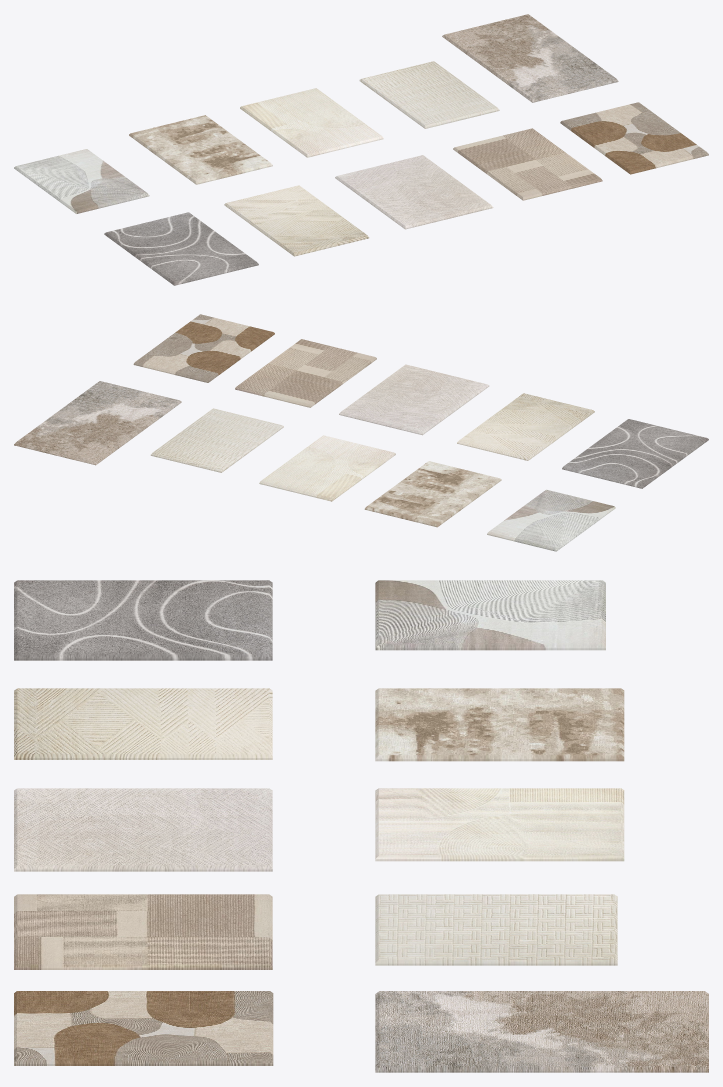
Rendered from rugs_neutral.glb.
3 renders of one model, top to bottom at view 1: azimuth 30°, elevation 25°; view 2: azimuth 150°, elevation 25°; view 3: azimuth 270°, elevation 25°, orthographic. The views are drawn at different scales.
Visible parts, largest first — view 1: Neatral Rug_008, Neatral Rug_003, Neatral Rug_001, Neatral Rug_004, Neatral Rug_010, Neatral Rug_002, Neatral Rug_007, Neatral Rug_006, Neatral Rug_005, Neatral Rug_009; view 2: Neatral Rug_008, Neatral Rug_003, Neatral Rug_001, Neatral Rug_004, Neatral Rug_010, Neatral Rug_002, Neatral Rug_006, Neatral Rug_007, Neatral Rug_005, Neatral Rug_009; view 3: Neatral Rug_008, Neatral Rug_003, Neatral Rug_001, Neatral Rug_004, Neatral Rug_010, Neatral Rug_002, Neatral Rug_006, Neatral Rug_007, Neatral Rug_005, Neatral Rug_009.
Boxes of the visible parts, x1,y1,x2,y2 form: Neatral Rug_008: (442, 14, 618, 102); Neatral Rug_003: (335, 155, 493, 229); Neatral Rug_001: (104, 212, 258, 285); Neatral Rug_004: (453, 128, 602, 200); Neatral Rug_010: (560, 102, 708, 174); Neatral Rug_002: (224, 185, 369, 256); Neatral Rug_007: (129, 115, 272, 184); Neatral Rug_006: (240, 88, 383, 157); Neatral Rug_005: (359, 61, 499, 128); Neatral Rug_009: (14, 149, 149, 213); Neatral Rug_008: (14, 381, 181, 465); Neatral Rug_003: (339, 364, 489, 435); Neatral Rug_001: (562, 419, 708, 488); Neatral Rug_004: (235, 339, 376, 407); Neatral Rug_010: (133, 314, 274, 382); Neatral Rug_002: (457, 393, 594, 460); Neatral Rug_006: (259, 435, 395, 501); Neatral Rug_007: (364, 461, 501, 527); Neatral Rug_005: (150, 408, 283, 472); Neatral Rug_009: (487, 489, 615, 551); Neatral Rug_008: (375, 991, 708, 1072); Neatral Rug_003: (14, 788, 272, 871); Neatral Rug_001: (14, 580, 272, 660); Neatral Rug_004: (14, 894, 272, 969); Neatral Rug_010: (14, 991, 273, 1065); Neatral Rug_002: (14, 688, 272, 759); Neatral Rug_006: (375, 788, 624, 861); Neatral Rug_007: (375, 688, 624, 761); Neatral Rug_005: (375, 894, 617, 965); Neatral Rug_009: (375, 580, 605, 650).
Bounding box in the file's own units: 5.83 × 0.0276 × 3.51.
1 material, 1 textured.
